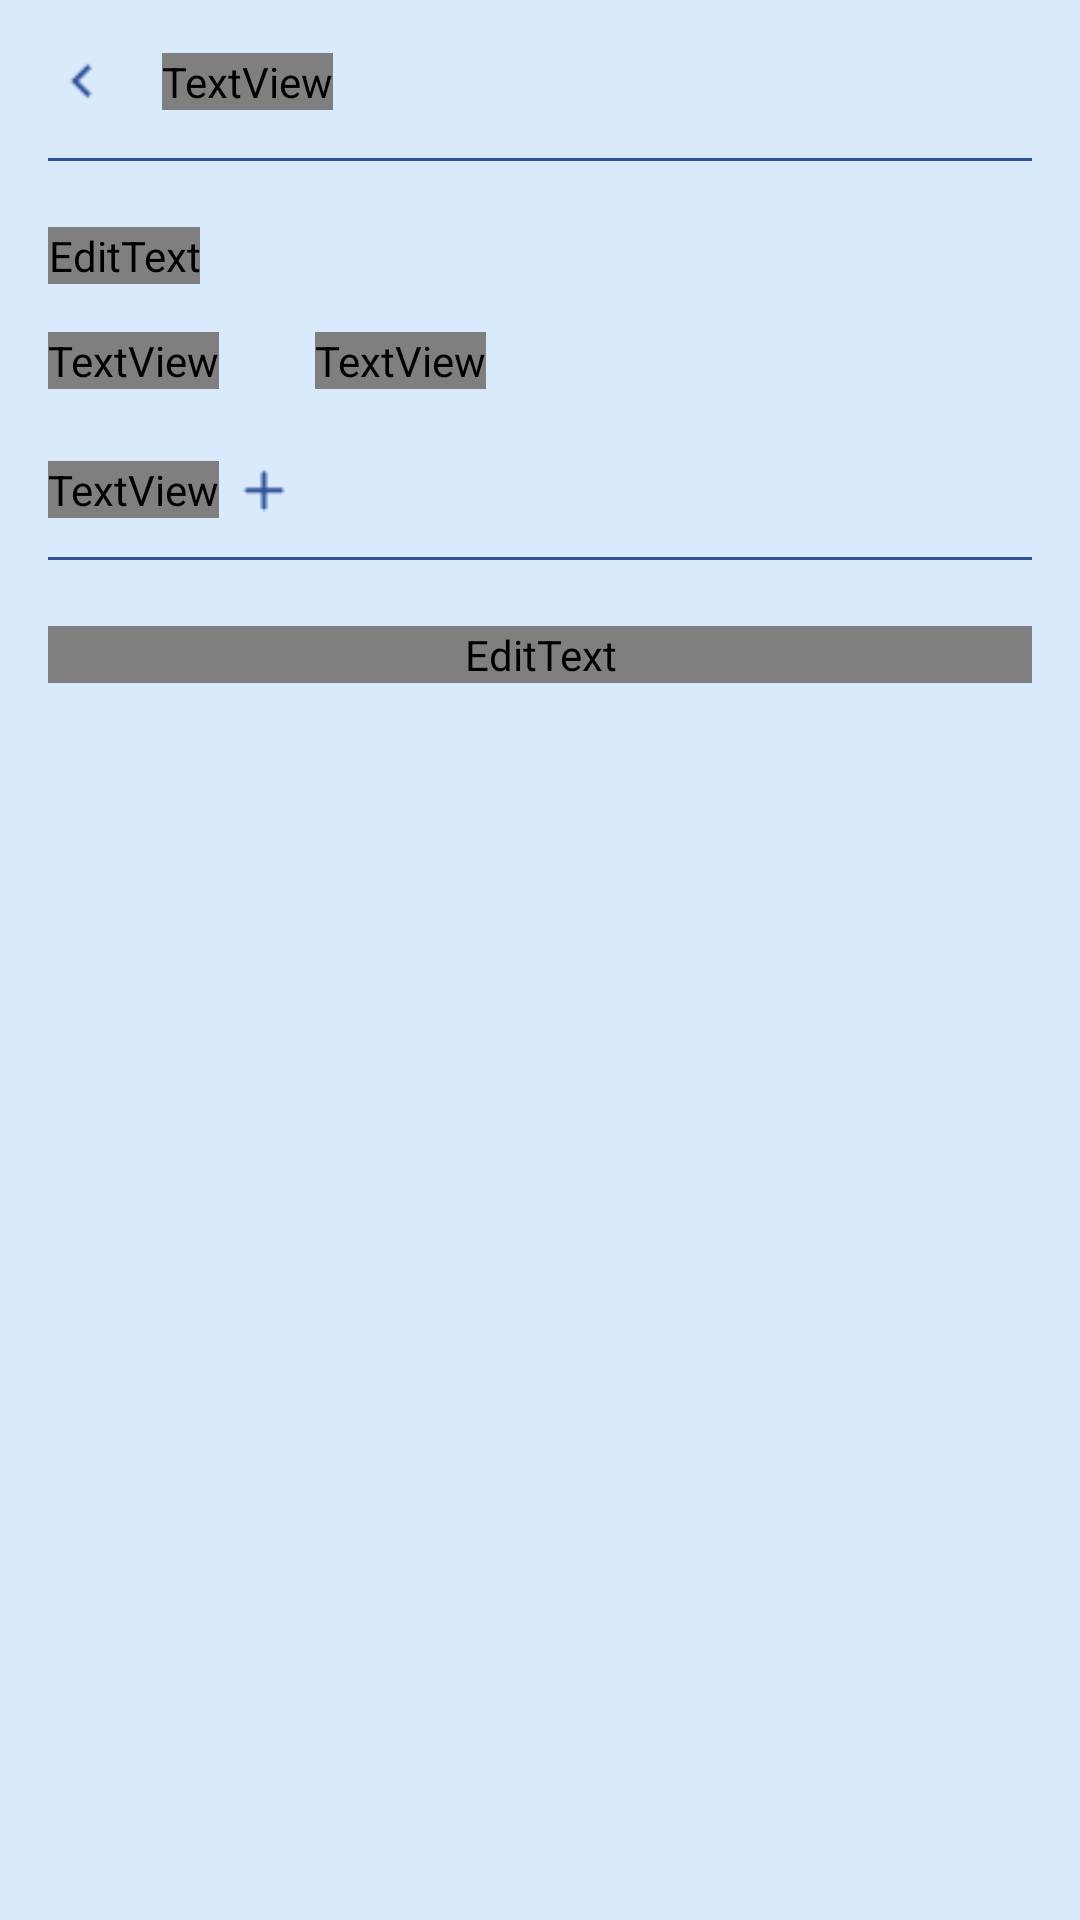

Icons on this 1080x1920 Android screen, each with the point to tap as [x,y]:
back: [81,81]
